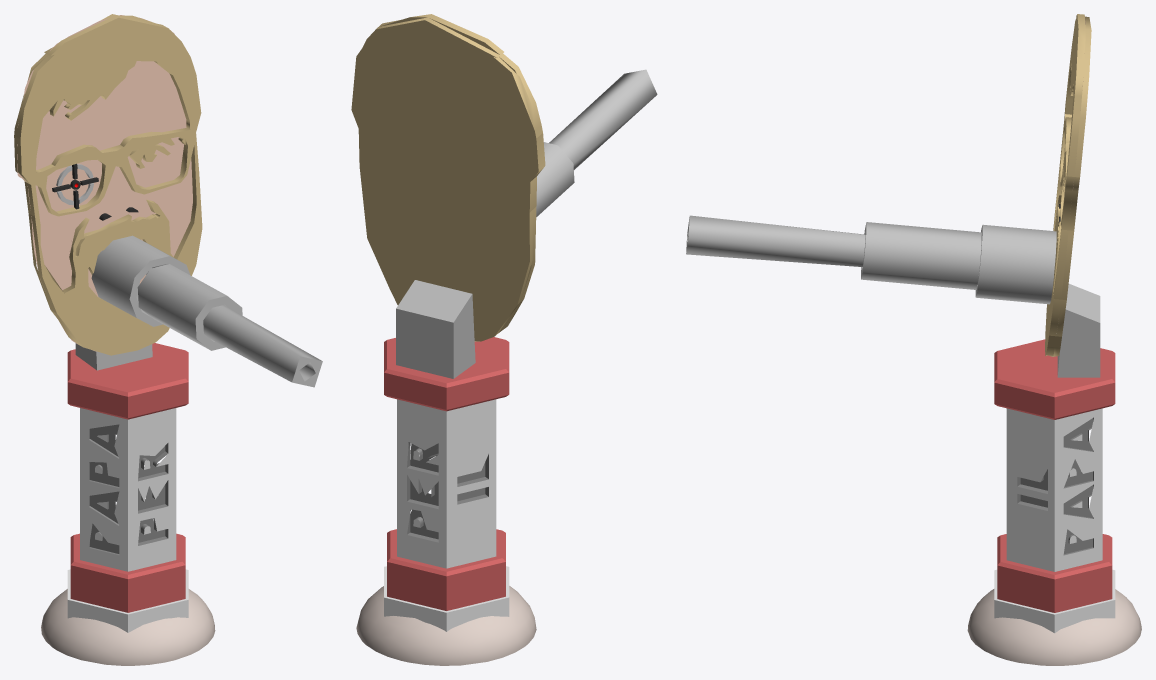
The model's file is torretta_cesare.glb.
3 renders of one model, left to right at view 1: azimuth 30°, elevation 25°; view 2: azimuth 150°, elevation 25°; view 3: azimuth 270°, elevation 25°, orthographic. The views are drawn at different scales.
Parts seen in each view (by area): view 1: Cannone, Base; view 2: Cannone, Base; view 3: Base, Cannone.
Boxes of the visible parts, x1,y1,x2,y2 form: Cannone: [14, 14, 322, 387]; Base: [41, 343, 215, 665]; Cannone: [351, 14, 657, 378]; Base: [356, 337, 536, 665]; Base: [967, 339, 1141, 665]; Cannone: [686, 14, 1100, 377].
Size of the model in its own units: 6.66 by 21.18 by 14.55.
